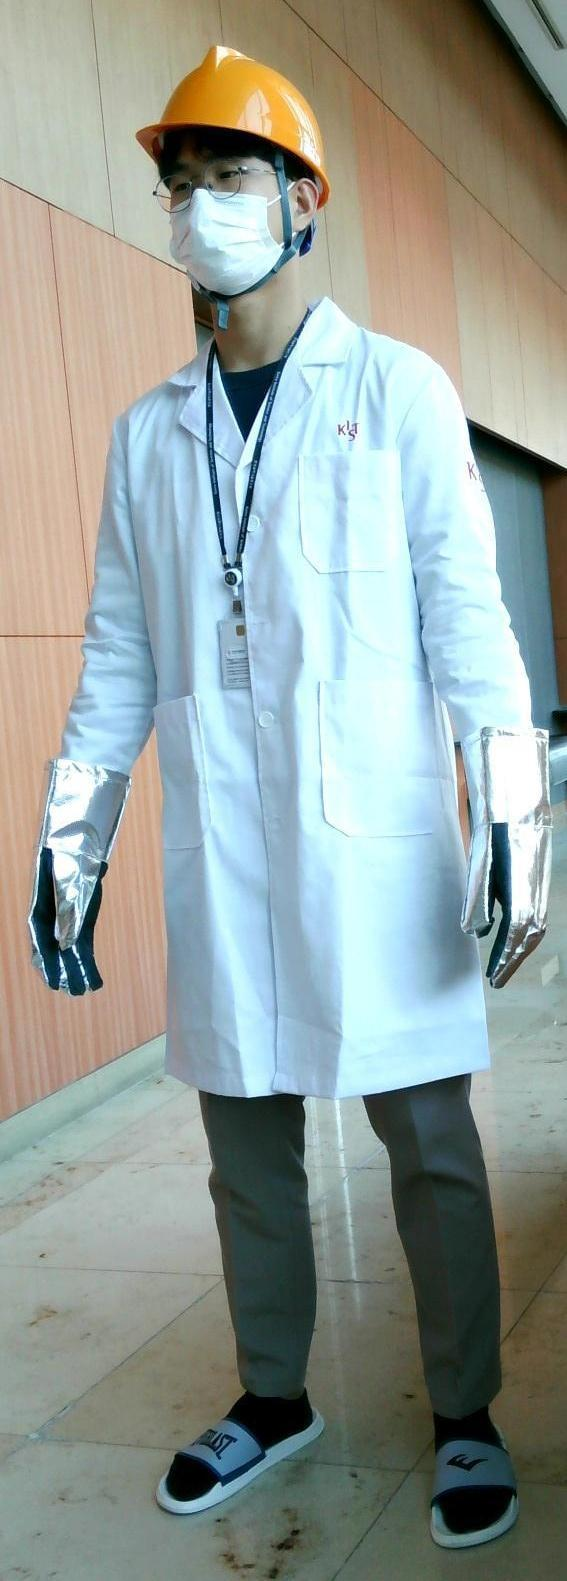lab_coat: (133, 354, 471, 1085)
